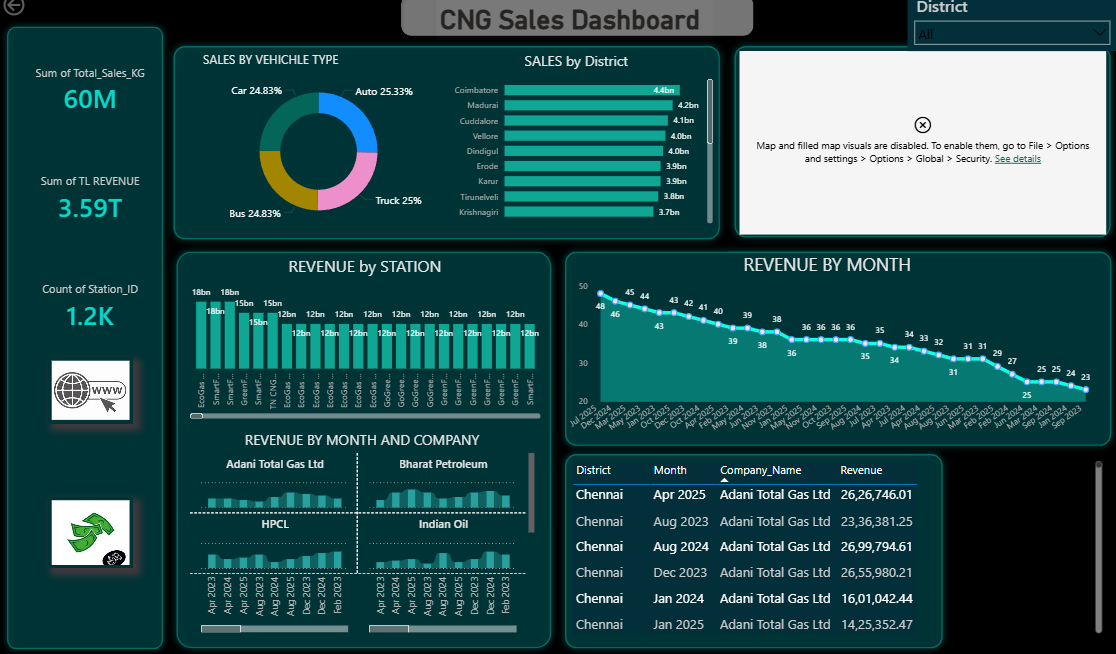

The page's visual inventory and layout, read from the dashboard file:
{"tool":"powerbi","page":{"name":"Page 1","canvas":[1600,950],"ordinal":0},"visuals":[{"type":"shape","box":[568.8,0,514.2,69.3],"z":0},{"type":"textbox","box":[625.4,12.6,394.6,56.7],"z":1000},{"type":"shape","box":[0,39.9,243.5,910.8],"z":2000},{"type":"cardVisual","fields":{"Data":["Sum(PROJECT CNG REPORT.Total_Sales_KG)","Sum(PROJECT CNG REPORT.TL REVENUE)","CountNonNull(PROJECT CNG REPORT.Station_ID)"]},"box":[15,68.3,228.3,455],"z":3000},{"type":"image","box":[68.3,523.3,121.7,95],"z":4000},{"type":"image","box":[69.3,724.1,121.7,102.8],"z":5000},{"type":"shape","box":[238.3,68.3,801.7,296.7],"z":6000},{"type":"donutChart","title":"SALES BY VEHICHLE TYPE","fields":{"Category":["PROJECT CNG REPORT.Vehicle_Type"],"Y":["Sum(PROJECT CNG REPORT.TL SALES)"]},"box":[285,85,340,263.3],"z":7000},{"type":"clusteredBarChart","title":" SALES by District","fields":{"Category":["PROJECT CNG REPORT.District"],"Y":["Sum(PROJECT CNG REPORT.TL SALES)"]},"box":[625,85,400,251.7],"z":8000},{"type":"shape","box":[1041,69.3,558.3,293.8],"z":9000},{"type":"filledMap","fields":{"Category":["PROJECT CNG REPORT.District"],"Series":["PROJECT CNG REPORT.TL REVENUE"]},"box":[1057.8,86,524.7,262.3],"z":10000},{"type":"shape","box":[243.5,363.1,556.2,587.6],"z":11000},{"type":"clusteredColumnChart","title":" REVENUE by STATION","fields":{"Category":["PROJECT CNG REPORT.Station_Name"],"Y":["Sum(PROJECT CNG REPORT.TL REVENUE)"]},"box":[266.5,377.8,512.1,239.3],"z":12000},{"type":"ribbonChart","title":" REVENUE BY MONTH AND COMPANY","fields":{"Category":["PROJECT CNG REPORT.Month"],"Y":["Sum(PROJECT CNG REPORT.TL REVENUE)"],"Rows":["PROJECT CNG REPORT.Company_Name"]},"box":[266.5,629.6,503.7,293.8],"z":13000},{"type":"shape","box":[797.5,363.1,801.7,298],"z":14000},{"type":"areaChart","title":"REVENUE BY MONTH ","fields":{"Category":["PROJECT CNG REPORT.Month"],"Y":["CountNonNull(PROJECT CNG REPORT.Revenue)"]},"box":[799.6,373.6,766,277],"z":15000},{"type":"shape","box":[797.5,652.7,560.4,298],"z":16000},{"type":"tableEx","fields":{"Values":["PROJECT CNG REPORT.District","PROJECT CNG REPORT.Month","PROJECT CNG REPORT.Company_Name","PROJECT CNG REPORT.Revenue"]},"box":[814.3,667.4,768.1,256],"z":17000},{"type":"actionButton","box":[0,0,100,40],"z":18000},{"type":"slicer","fields":{"Values":["PROJECT CNG REPORT.District"]},"box":[1299.1,0,300.1,86],"z":19000}]}

Visuals, with their boxes in screenshot pixels (x1, y1, x2, y2), scaled from the page's 1600x950 canvas onto the 1116x654 screenshot:
shape: (left=397, top=0, right=755, bottom=48)
textbox: (left=436, top=9, right=711, bottom=48)
shape: (left=0, top=27, right=170, bottom=653)
cardVisual - Sum(PROJECT CNG REPORT.Total_Sales_KG) x Sum(PROJECT CNG REPORT.TL REVENUE): (left=10, top=47, right=170, bottom=360)
image: (left=48, top=360, right=133, bottom=426)
image: (left=48, top=498, right=133, bottom=569)
shape: (left=166, top=47, right=725, bottom=251)
"SALES BY VEHICHLE TYPE" donutChart: (left=199, top=59, right=436, bottom=240)
" SALES by District" clusteredBarChart: (left=436, top=59, right=715, bottom=232)
shape: (left=726, top=48, right=1115, bottom=250)
filledMap - PROJECT CNG REPORT.District x PROJECT CNG REPORT.TL REVENUE: (left=738, top=59, right=1104, bottom=240)
shape: (left=170, top=250, right=558, bottom=653)
" REVENUE by STATION" clusteredColumnChart: (left=186, top=260, right=543, bottom=425)
" REVENUE BY MONTH AND COMPANY" ribbonChart: (left=186, top=433, right=537, bottom=636)
shape: (left=556, top=250, right=1115, bottom=455)
"REVENUE BY MONTH " areaChart: (left=558, top=257, right=1092, bottom=448)
shape: (left=556, top=449, right=947, bottom=653)
tableEx - PROJECT CNG REPORT.District x PROJECT CNG REPORT.Month: (left=568, top=459, right=1104, bottom=636)
actionButton: (left=0, top=0, right=70, bottom=28)
slicer - PROJECT CNG REPORT.District: (left=906, top=0, right=1115, bottom=59)
